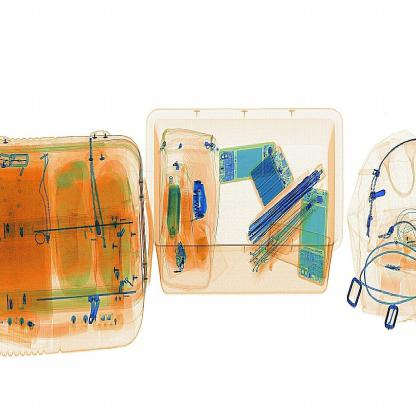scissors: (190, 178, 212, 224)
